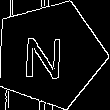N_N: (28, 28, 72, 80)
